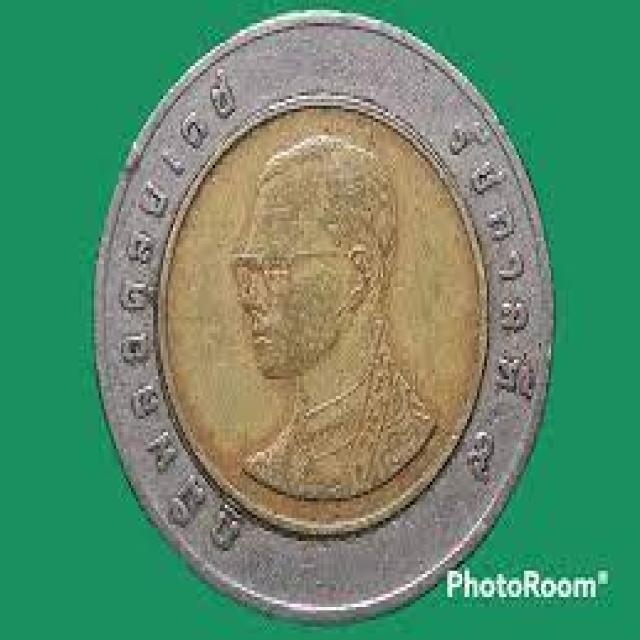10 Bath: (93, 8, 557, 633)
